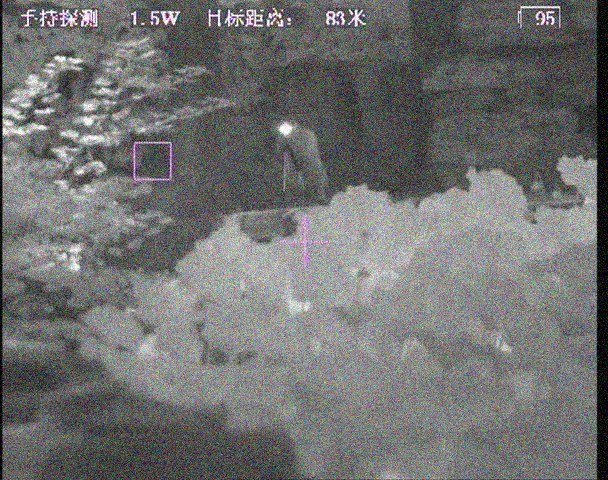my: (276, 121, 295, 139)
